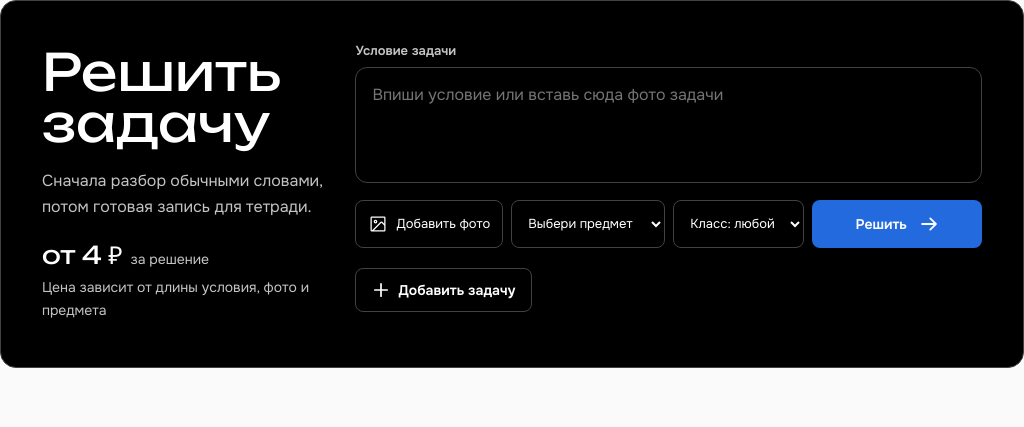
CopyTask › показывает на кнопке точную цену задачи, а «от 4 ₽» - только с оговоркой
The width and height of the screenshot is (1024, 427).
Expected: the button "Решить" is shown, [812,200,982,248]
Expected: the text "Цена зависит от длины условия, фото и предмета" is shown, [42,276,324,321]
Type "Назови причины Первой мировой войны" into the text box labelled "Условие задачи".
click(669, 125); type("Назови причины Первой мировой войны")  # box [356,67,982,183]
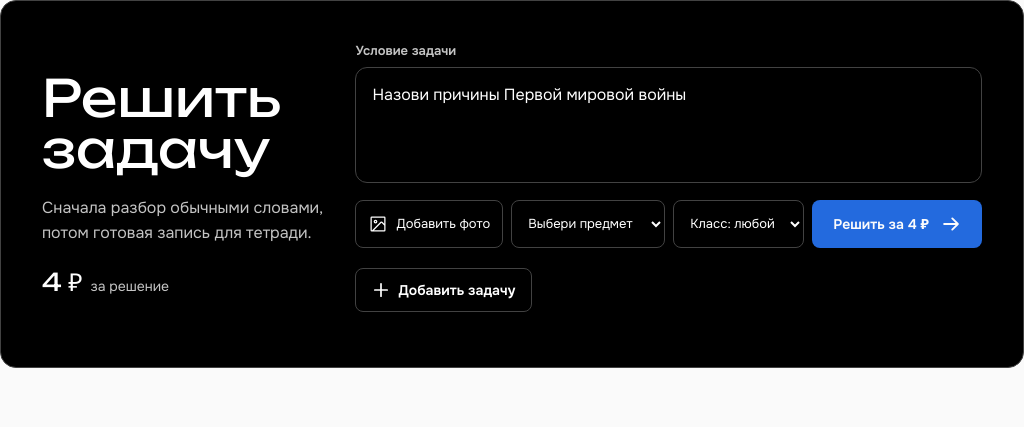
Expected: the button "Решить за 4 ₽" is shown, [812,200,982,248]
Expected: the text "Цена зависит от длины условия, фото и предмета" is gone
// Счётный предмет дороже на рубль: цена на кнопке меняется сразу.
Select "Алгебра" in the 1st dropdown named "Предмет" at (588, 224), box [511,200,665,248]
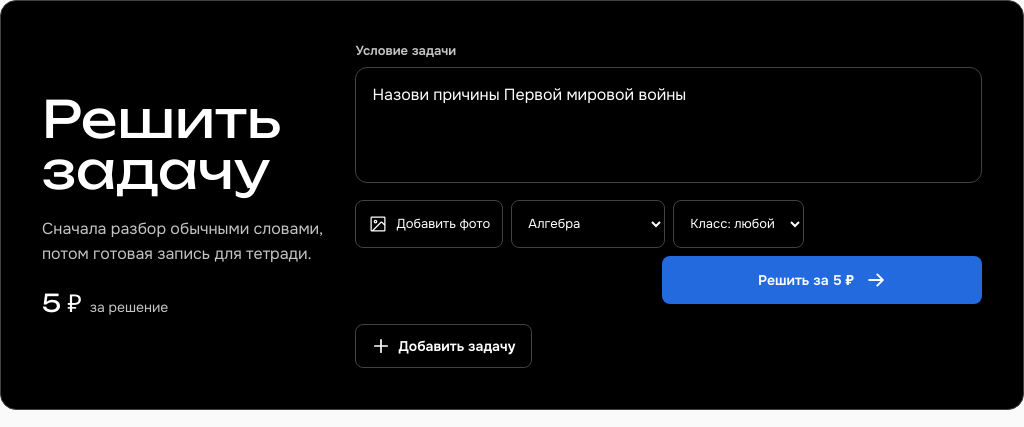
Expected: the button "Решить за 5 ₽" is shown, [662,256,982,304]
